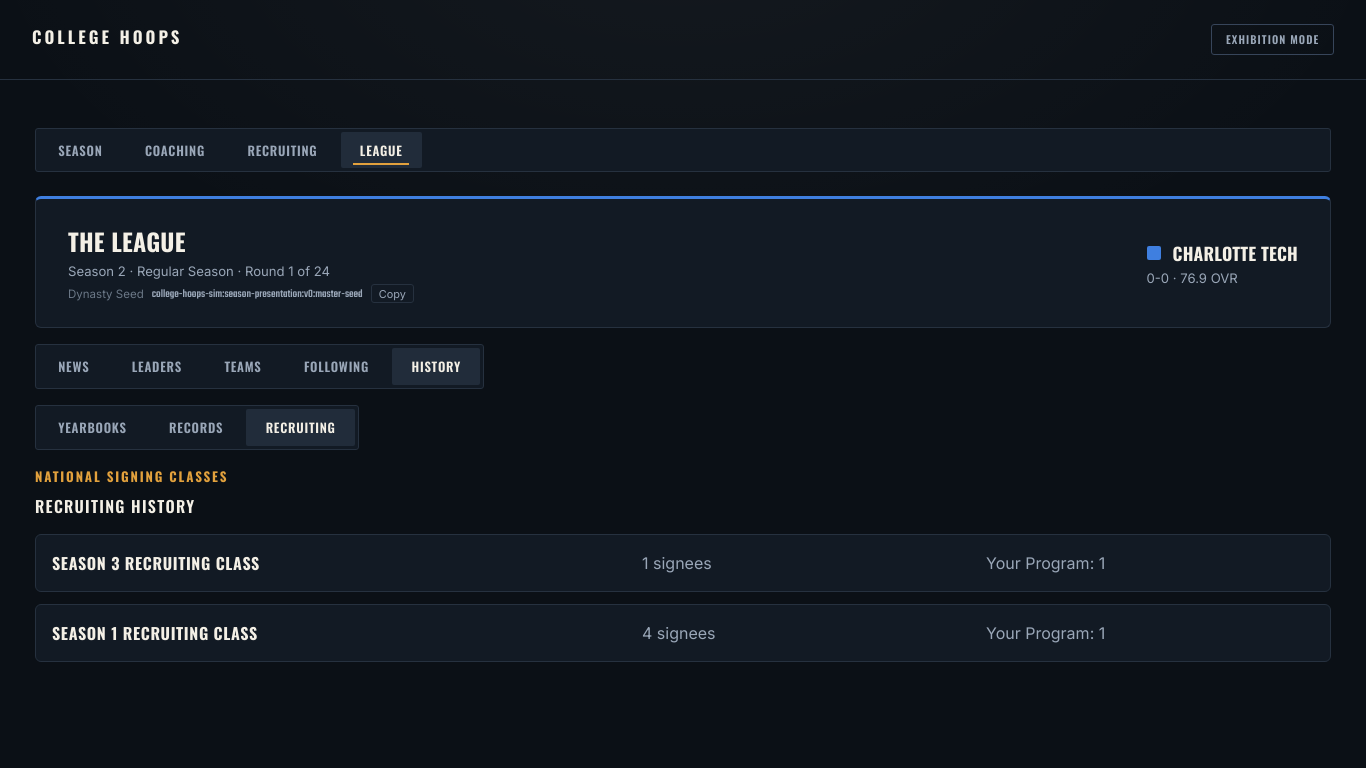
it: Recruiting History presentation and navigation › renders Incoming without a Player link and excludes hidden Recruiting facts
This screenshot has width=1366, height=768.
Click the button "Season 3 Recruiting Class 1 signees Your Program: 1".
click(683, 562)  # box [35,534,1331,592]
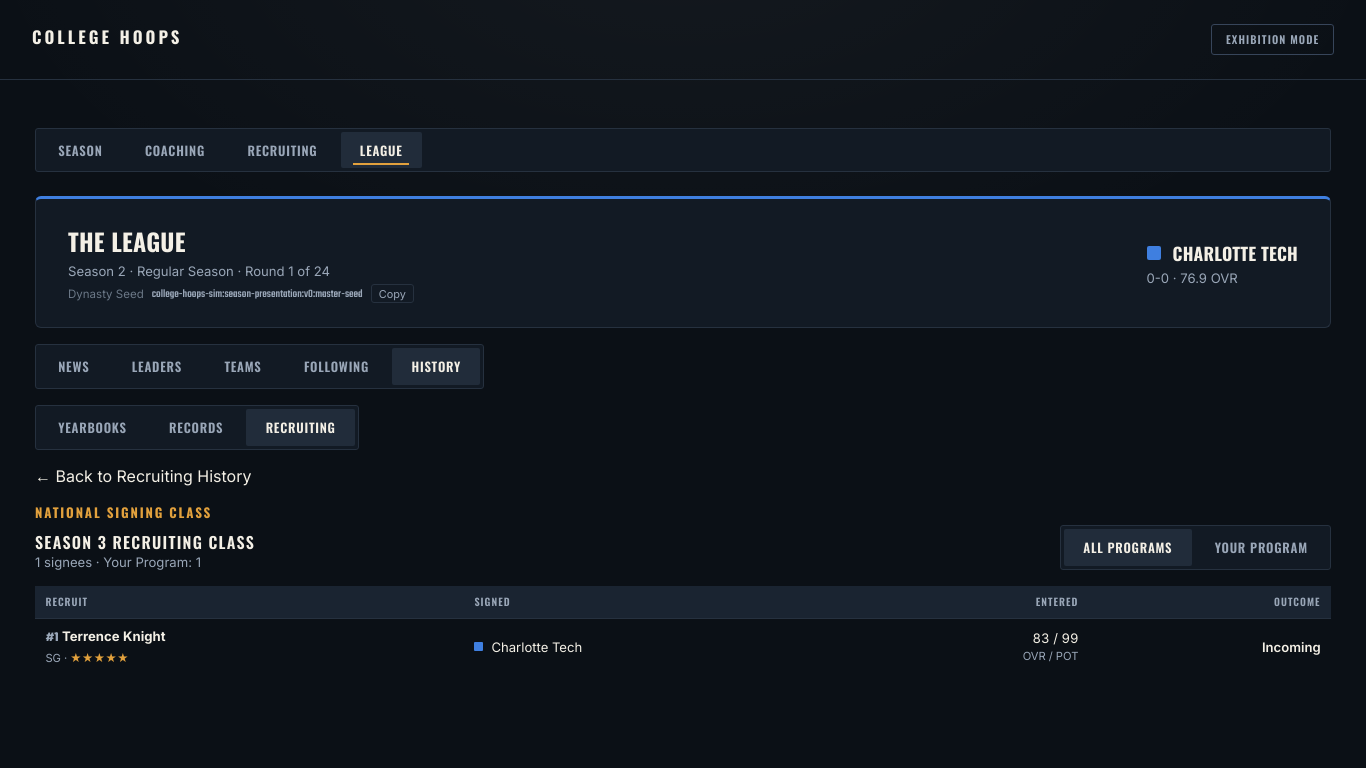
Expected: the table named "Season 3 national recruiting class" does not show "54321", [35,586,1331,674]
Expected: the table named "Season 3 national recruiting class" shows "OVR / POT", [1023,649,1078,663]
Expected: the table named "Season 3 national recruiting class" shows "Incoming", [1262,638,1321,654]
